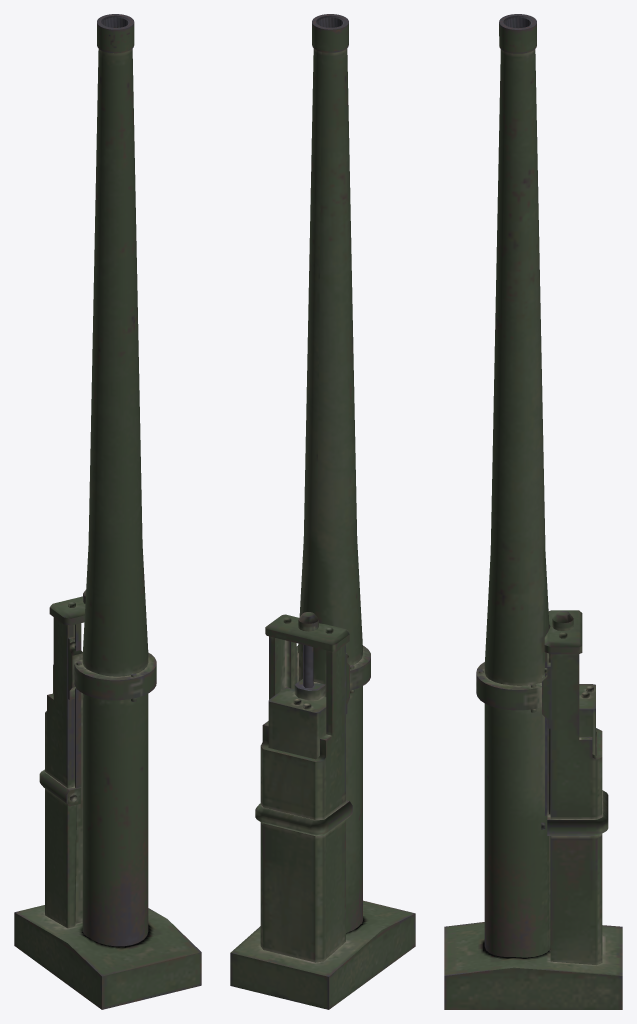
File: Gun_01.glb
3 renders of one model, left to right at view 1: azimuth 30°, elevation 25°; view 2: azimuth 150°, elevation 25°; view 3: azimuth 270°, elevation 25°, orthographic. The views are drawn at different scales.
Visible parts, largest first — view 1: set_0_group_0; view 2: set_0_group_0; view 3: set_0_group_0.
Boxes of the visible parts, box(x1,y1,x2,y2) form: set_0_group_0: box(14, 14, 201, 1009); set_0_group_0: box(230, 14, 415, 1009); set_0_group_0: box(444, 14, 622, 1009).
Size of the model in its own units: 0.4719 by 4.29 by 0.7193.
Materials: 1 (1 with a texture image).
